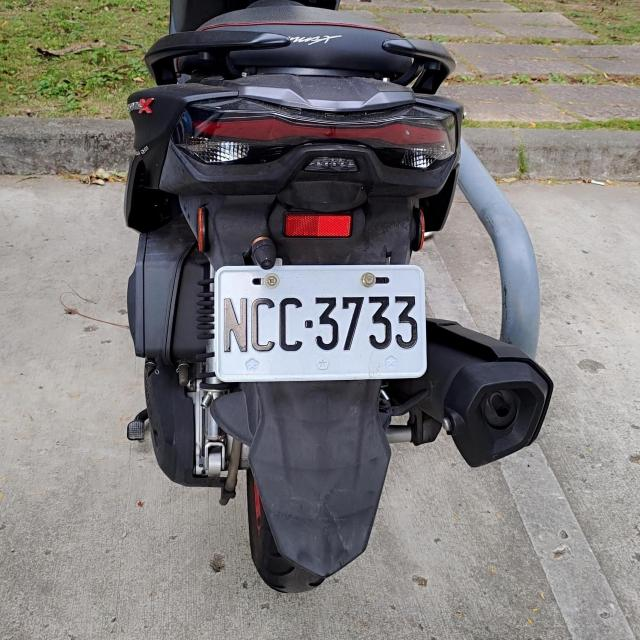W: (213, 264, 426, 382)
